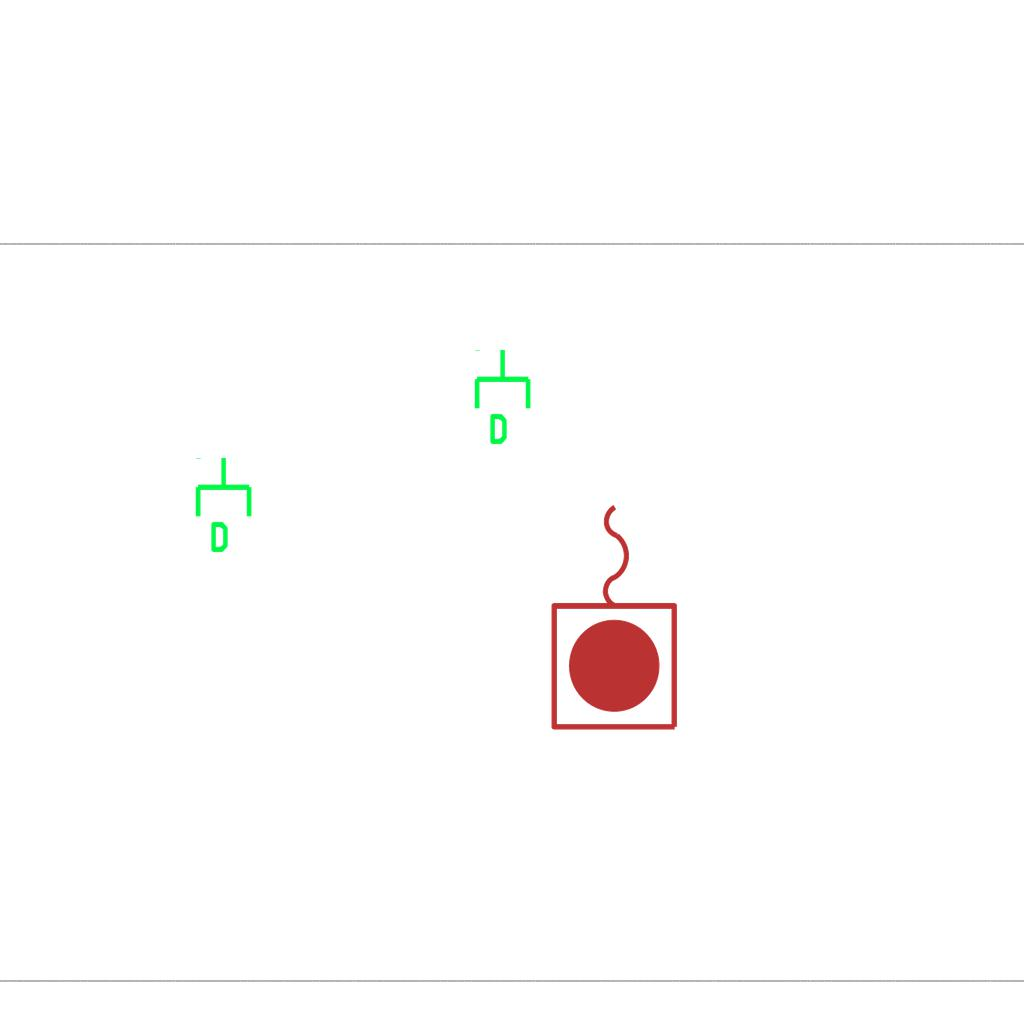Datenanschluss_einfach: (191, 455, 260, 555), (470, 347, 539, 447)
Zugtaster: (544, 494, 688, 738)
